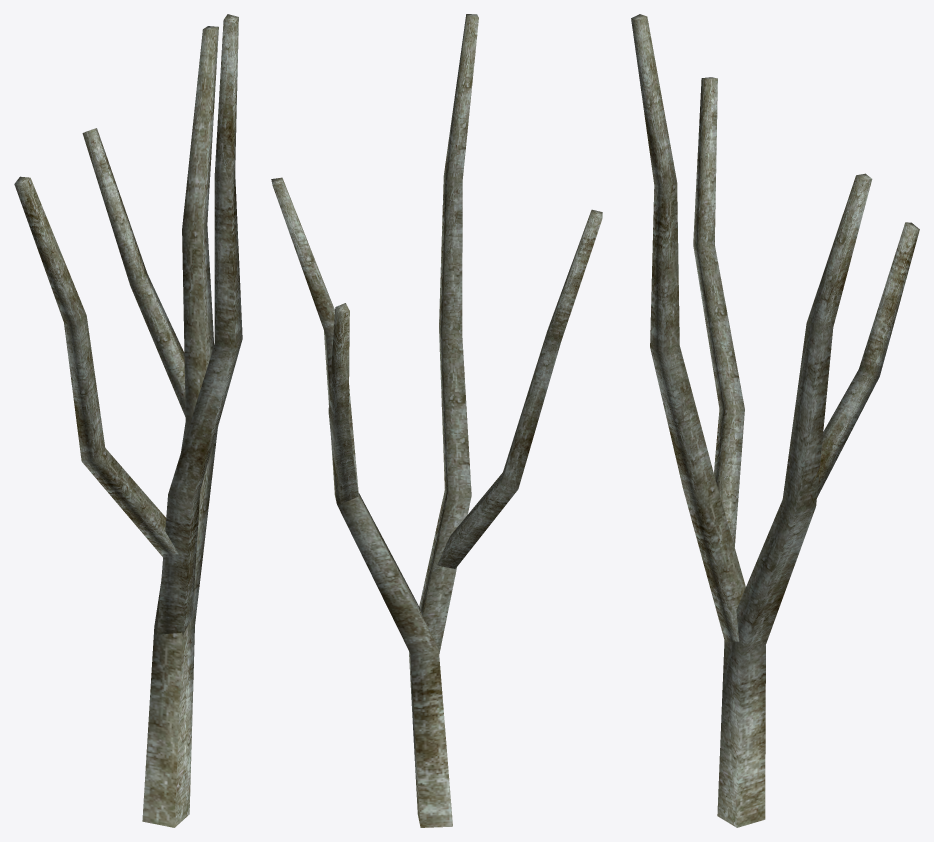
Rendered from OZ_00_hd_tree02E.glb.
The picture shows the model from 3 angles, left to right: view 1: azimuth 30°, elevation 25°; view 2: azimuth 150°, elevation 25°; view 3: azimuth 270°, elevation 25°; orthographic projection. The views are drawn at different scales.
Visible parts, largest first — view 1: OM_00_hd_tree02E; view 2: OM_00_hd_tree02E; view 3: OM_00_hd_tree02E.
Boxes of the visible parts, x1=… form: OM_00_hd_tree02E: x1=14, y1=14, x2=242, y2=827; OM_00_hd_tree02E: x1=271, y1=14, x2=602, y2=827; OM_00_hd_tree02E: x1=631, y1=14, x2=919, y2=827.
Size of the model in its own units: 1.19 by 3.35 by 1.09.
Materials: 1 (1 with a texture image).
